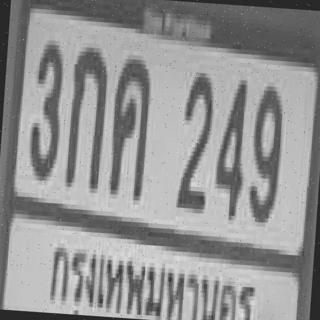A01: (62, 42, 108, 189)
A04: (107, 54, 150, 192)
N02: (176, 68, 214, 205)
N03: (27, 35, 65, 177)
N04: (212, 74, 248, 216)
N09: (247, 81, 283, 218)
P04: (40, 228, 266, 320)
